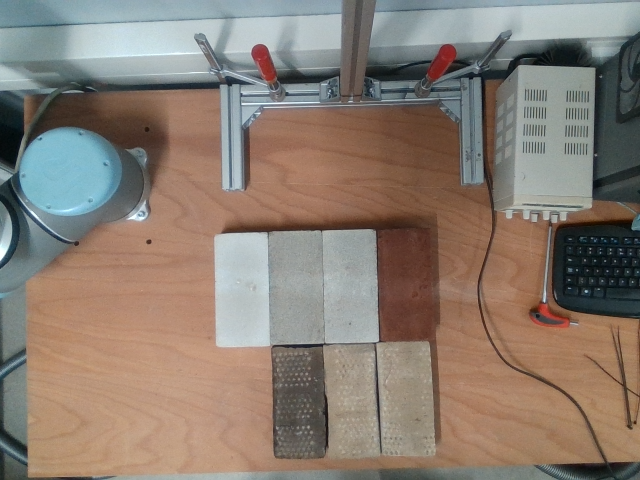brick: (268, 230, 326, 345), (377, 341, 436, 454), (324, 343, 381, 456), (323, 230, 380, 341), (214, 234, 270, 346), (273, 347, 326, 458), (378, 230, 431, 339)
